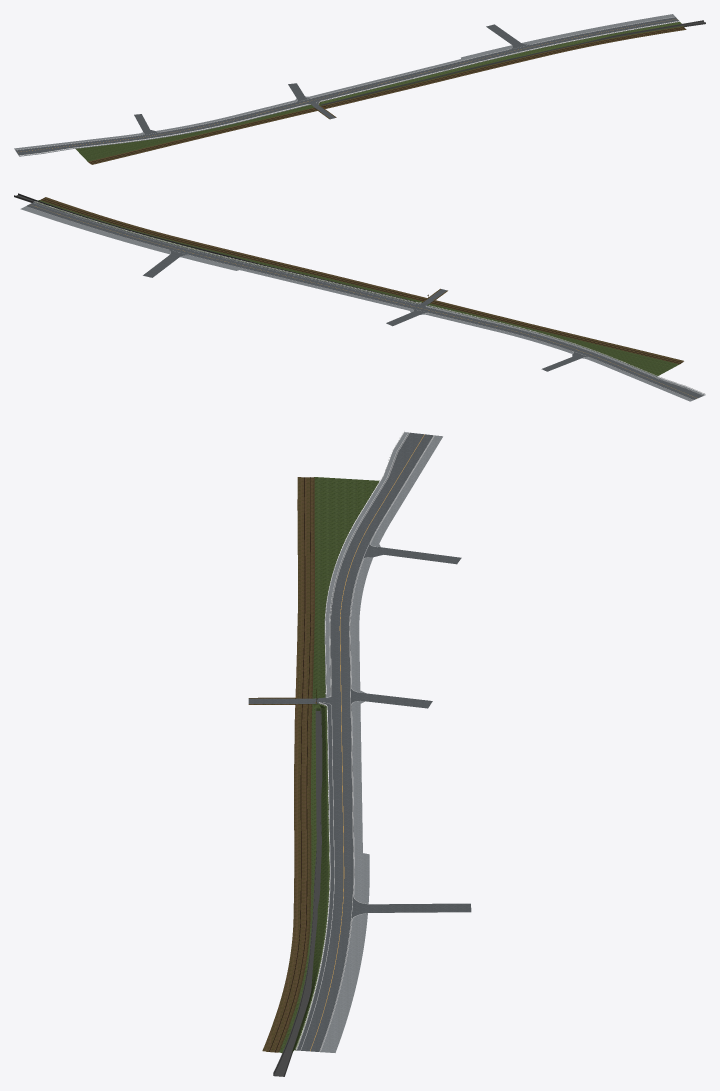
File: gennkyou.FBX
The picture shows the model from 3 angles, top to bottom: view 1: azimuth 30°, elevation 25°; view 2: azimuth 150°, elevation 25°; view 3: azimuth 270°, elevation 25°; orthographic projection. The views are drawn at different scales.
Visible parts, largest first — view 1: 車道(現況), 仮敷地, 線路用敷地ver2, 歩道(現況), 線路モデル, 水路, ガードレール001, 縁石LOFT006, ガードレール003; view 2: 車道(現況), 線路用敷地ver2, 仮敷地, 歩道(現況), 線路モデル, 水路, ガードレール001, 縁石LOFT006; view 3: 車道(現況), 線路用敷地ver2, 仮敷地, 歩道(現況), 水路, 線路モデル, マーキング-白色.
Part boxes in pixels (<box>): 車道(現況): <box>15,17,678,155</box>; 仮敷地: <box>76,22,683,161</box>; 線路用敷地ver2: <box>88,26,686,164</box>; 歩道(現況): <box>14,14,675,156</box>; 線路モデル: <box>89,27,684,163</box>; 水路: <box>321,20,705,105</box>; ガードレール001: <box>320,21,678,101</box>; 縁石LOFT006: <box>318,21,679,104</box>; ガードレール003: <box>19,104,308,155</box>; 車道(現況): <box>26,202,703,399</box>; 線路用敷地ver2: <box>40,197,683,364</box>; 仮敷地: <box>35,200,679,376</box>; 歩道(現況): <box>20,206,705,401</box>; 線路モデル: <box>41,198,682,363</box>; 水路: <box>14,193,418,302</box>; ガードレール001: <box>34,201,415,302</box>; 縁石LOFT006: <box>34,201,421,303</box>; 車道(現況): <box>248,432,471,1051</box>; 線路用敷地ver2: <box>248,477,314,1052</box>; 仮敷地: <box>279,477,379,1052</box>; 歩道(現況): <box>321,432,442,1052</box>; 水路: <box>273,708,322,1076</box>; 線路モデル: <box>269,477,310,1052</box>; マーキング-白色: <box>300,432,433,1051</box>.
Size of the model in its own units: 514 by 7.05 by 75.68.
